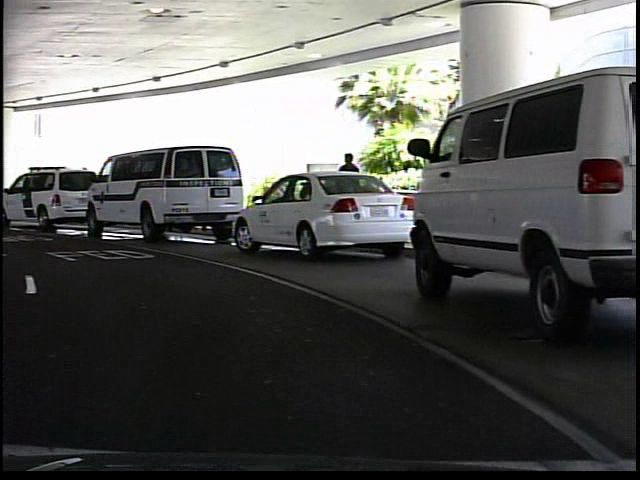person: (334, 149, 364, 236)
